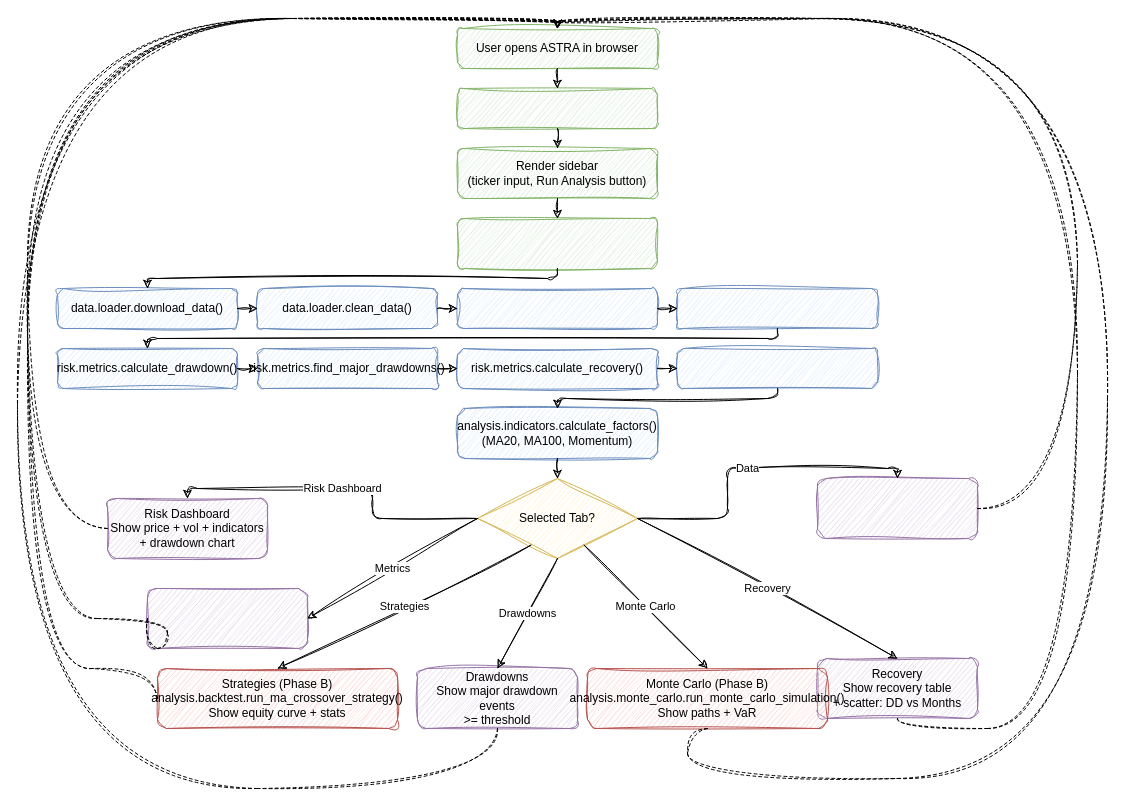
Image size: 1126x807. Some labels were removed from this diagram. The shapes that lost their labels are listed below. From the top down, each one's centre as x and y in pixels, then its label:
point (557, 108): Streamlit starts ASTRA.main()
point (557, 243): User enters ticker and clicks 'Run Analysis'
point (557, 308): risk.metrics.calculate_returns()
point (777, 308): risk.metrics.calculate_volatility()
point (777, 368): risk.metrics.calculate_risk_metrics()
point (897, 508): Data Show summary + CSV download
point (227, 618): Metrics Show risk metrics table (CAGR, Vol, Sharpe, Sortino, Max DD)
